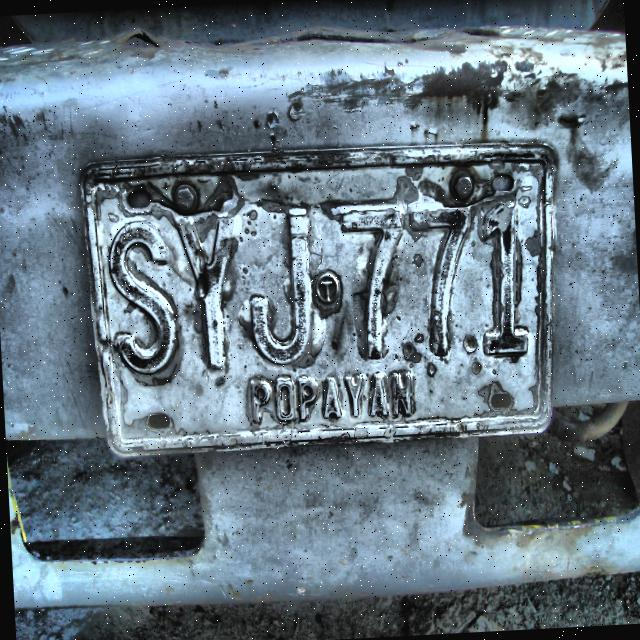1: (474, 198, 534, 363)
7: (336, 196, 413, 365), (408, 190, 478, 367)
J: (240, 204, 318, 369)
S: (102, 214, 184, 384)
Y: (174, 212, 244, 376)
